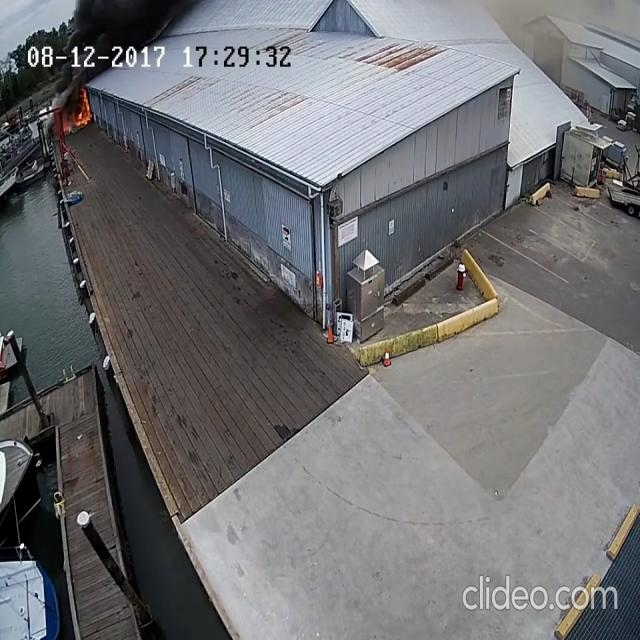fire: (70, 87, 93, 128)
